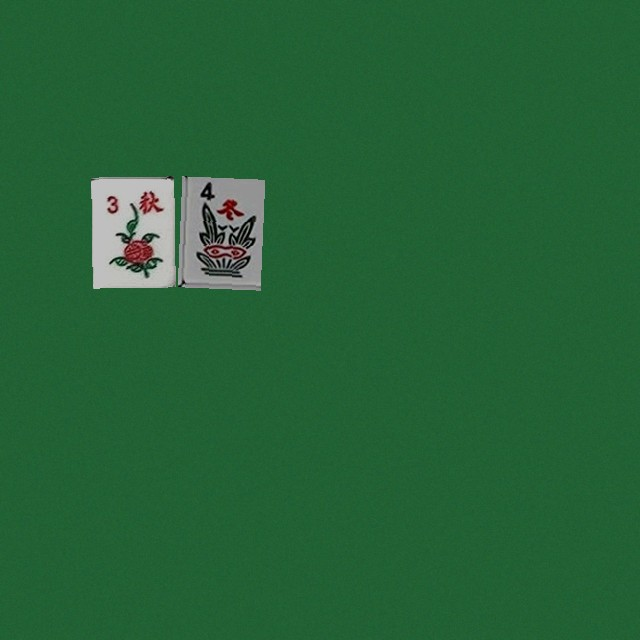tile: (91, 176, 174, 287), (177, 176, 260, 287)
